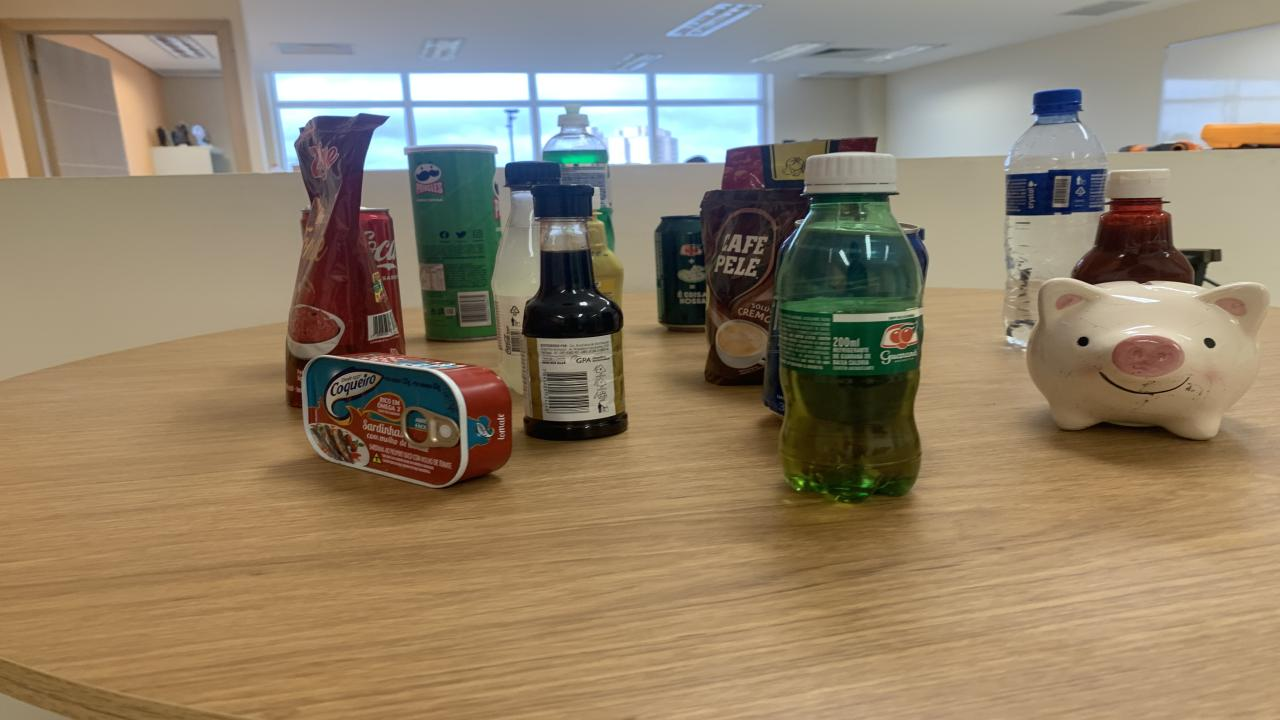Coffee-Pantry_Items: (700, 188, 810, 386)
Coke-Drinks: (360, 208, 405, 352)
Detergent-Cleanup_Items: (542, 105, 615, 249)
English_Sauce-Pantry_Items: (522, 186, 628, 441)
Guarana-Drinks: (775, 152, 922, 502)
Guarana_Can-Drinks: (655, 216, 708, 332)
Ketchup-Pantry_Items: (1072, 169, 1192, 283)
Mustard-Pantry_Items: (588, 188, 622, 304)
Pig_Safe-Miscellaneous: (1028, 278, 1270, 439)
Pringles-Snacks: (405, 144, 500, 341)
Soda-Drinks: (490, 161, 560, 394)
Tomato_Sauce-Pantry_Items: (285, 112, 402, 407), (722, 137, 878, 189)
Tonic-Drinks: (762, 298, 785, 414), (900, 223, 928, 285), (778, 232, 795, 264), (795, 219, 802, 232)
Tuna_Can-Pantry_Items: (302, 354, 512, 488)
Water_Bottle-Drinks: (1002, 88, 1108, 347)
